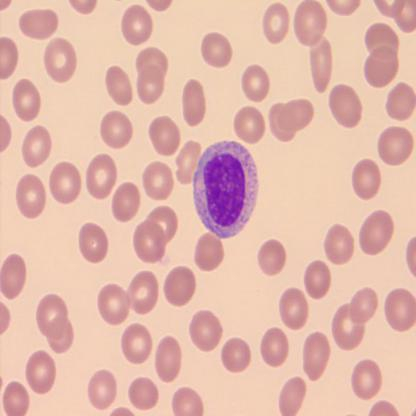Metamyelocyte: (191, 138, 260, 240)
